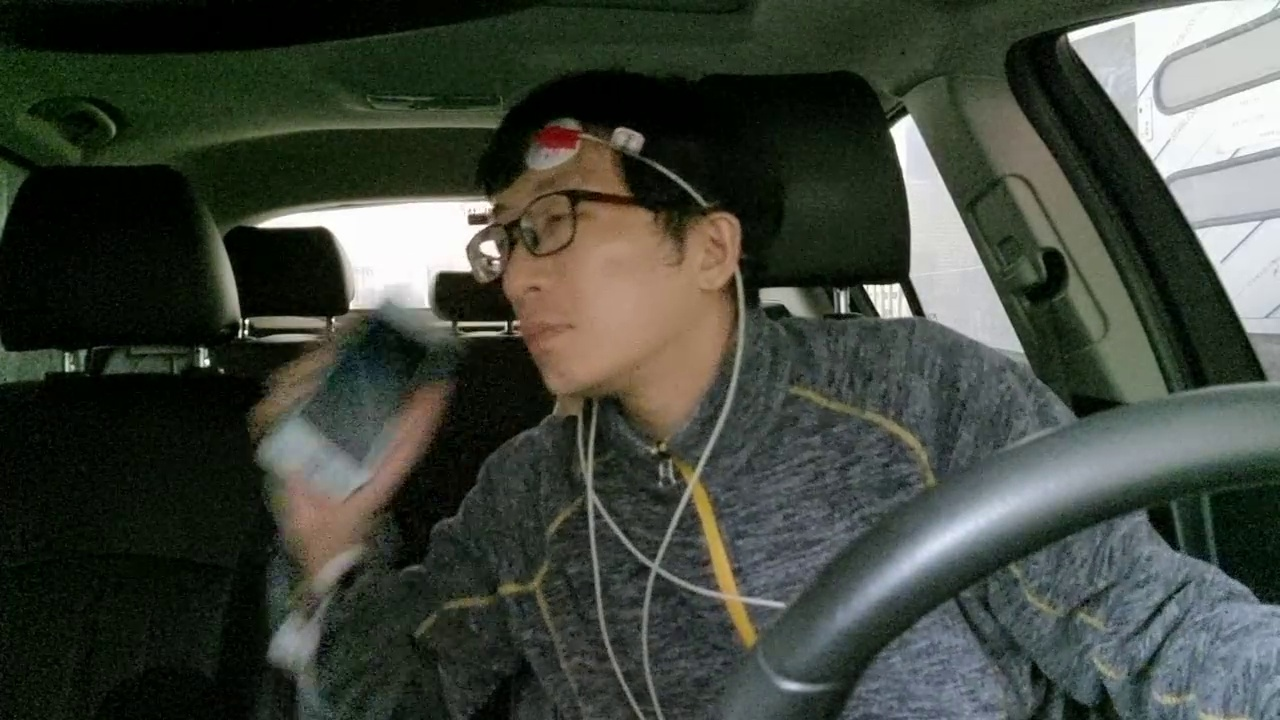phone: (263, 265, 454, 552)
